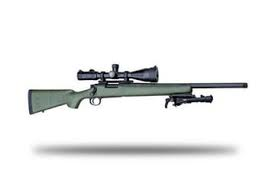gun: (26, 62, 249, 115)
